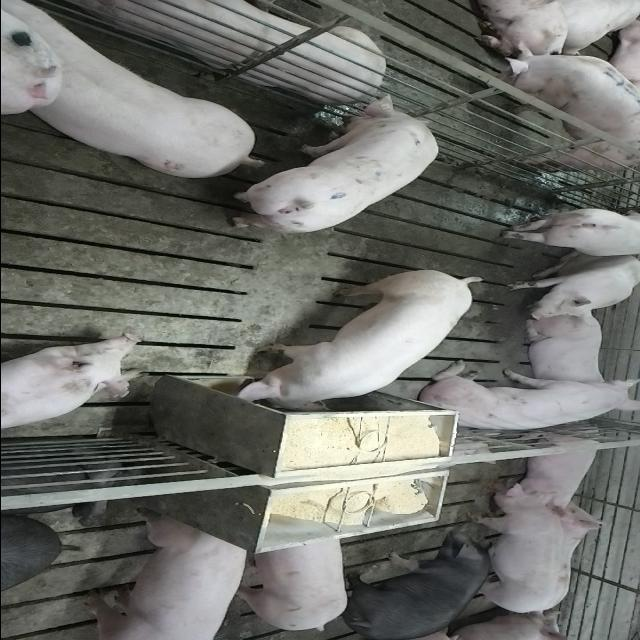Feeding: (229, 272, 481, 418)
Sitting: (411, 366, 636, 436), (502, 254, 640, 320)
Standing: (8, 5, 268, 183), (218, 93, 438, 235), (75, 515, 254, 639), (338, 524, 500, 638), (501, 42, 638, 172), (464, 481, 568, 617), (230, 532, 352, 632), (495, 206, 638, 258)
Sternal_lying: (59, 0, 385, 98), (0, 335, 142, 436), (506, 430, 605, 510), (520, 312, 606, 392)
